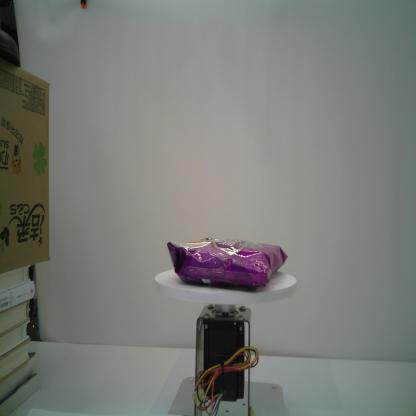Instant Noodles: (165, 235, 289, 290)
